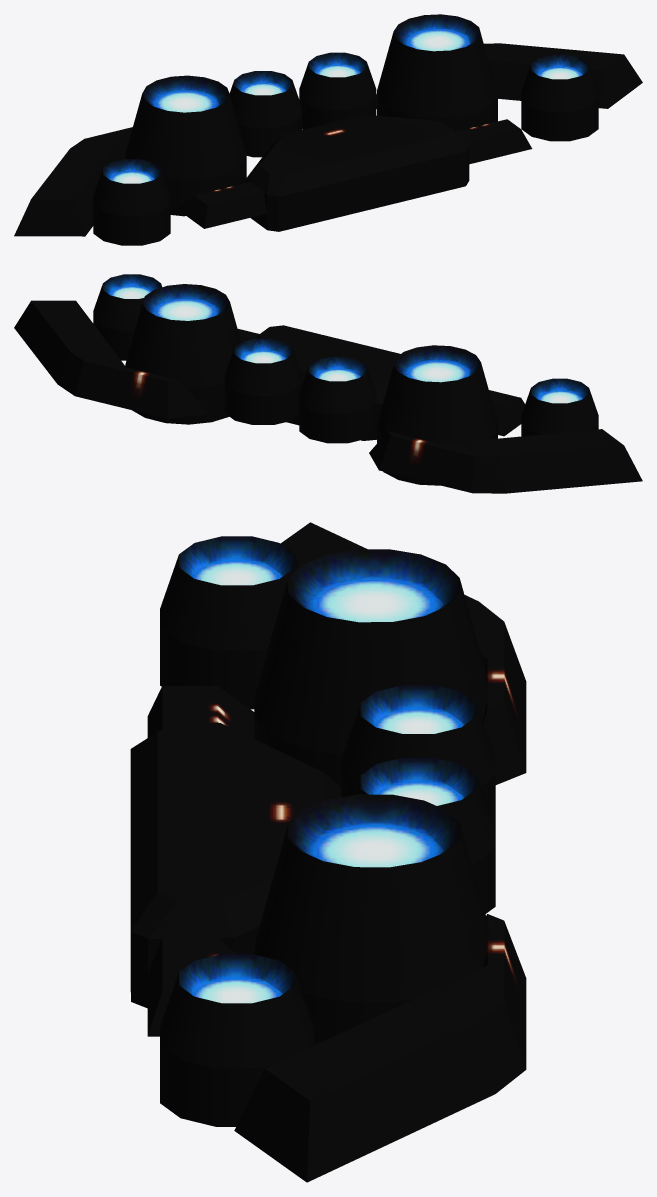
File: hgn_flagship_explorer_04_engine_s_01.glb
The picture shows the model from 3 angles, top to bottom: view 1: azimuth 30°, elevation 25°; view 2: azimuth 150°, elevation 25°; view 3: azimuth 270°, elevation 25°; orthographic projection. The views are drawn at different scales.
Parts seen in each view (by area): view 1: hgn_flagship_explorer_04_engine_s_01; view 2: hgn_flagship_explorer_04_engine_s_01; view 3: hgn_flagship_explorer_04_engine_s_01.
Part boxes in pixels (x1,y1,x2,y2): hgn_flagship_explorer_04_engine_s_01: [14, 14, 642, 245]; hgn_flagship_explorer_04_engine_s_01: [14, 274, 642, 493]; hgn_flagship_explorer_04_engine_s_01: [130, 522, 526, 1182].
Size of the model in its own units: 2.91 by 0.4469 by 0.7928.
1 material, 1 textured.
